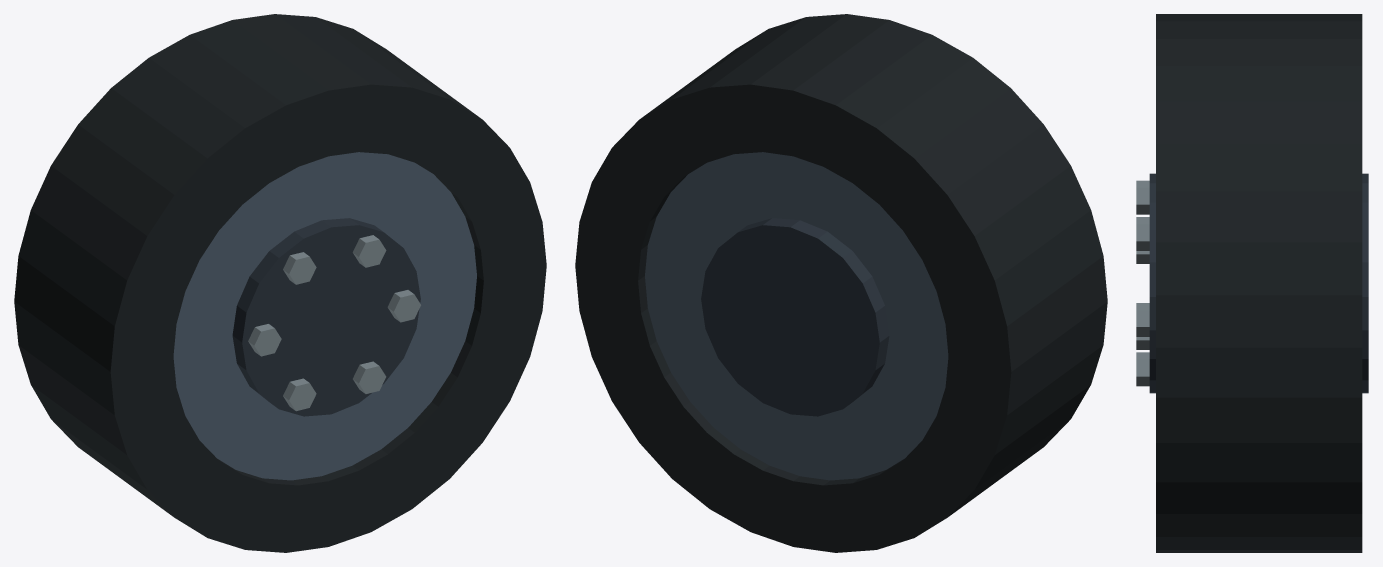
Rendered from R-01_cart_wheel.glb.
3 views of the same model, side by side, from view 1: azimuth 30°, elevation 25°; view 2: azimuth 150°, elevation 25°; view 3: azimuth 270°, elevation 25° (orthographic). The views are drawn at different scales.
Visible parts, largest first — view 1: R-01_cart_wheel; view 2: R-01_cart_wheel; view 3: R-01_cart_wheel.
Part boxes in pixels (x1,y1,x2,y2): R-01_cart_wheel: [14, 14, 546, 552]; R-01_cart_wheel: [575, 14, 1107, 552]; R-01_cart_wheel: [1136, 14, 1368, 552].
Size of the model in its own units: 0.444 by 0.444 by 0.191.
